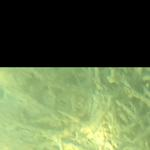dead: (1, 67, 148, 148)
